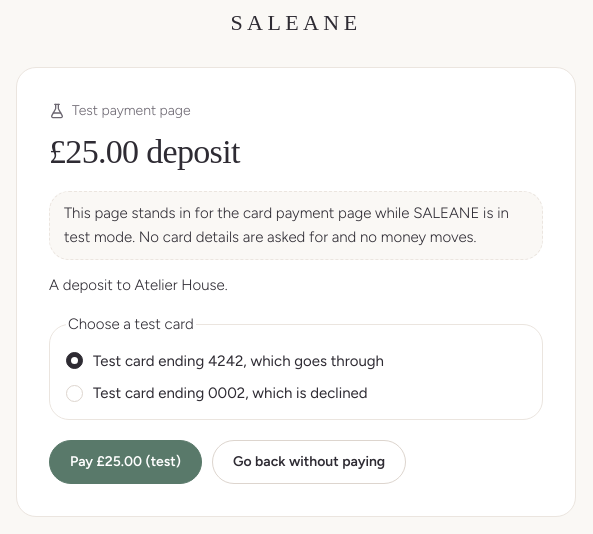
Test: a test deposit ends by saying plainly that no money was taken
This screenshot has width=593, height=534.
Click the button "Pay £25.00 (test)": (126, 462) top-left (49, 440), bottom-right (202, 484)
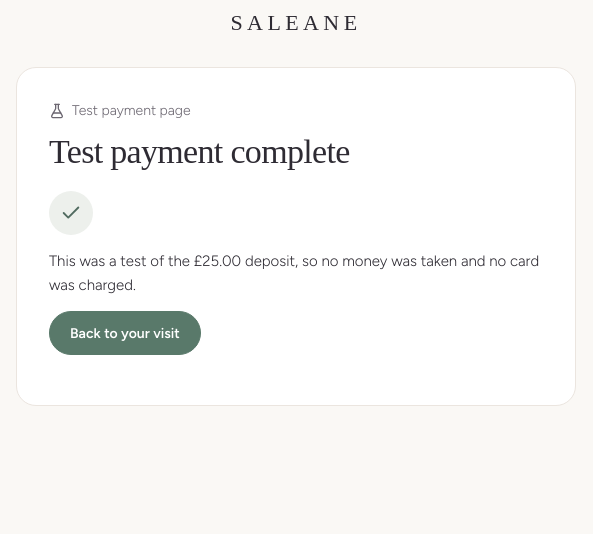
Check: the heading "Test payment complete" is shown, box top-left (49, 133), bottom-right (350, 170)
Check: the message shows "This was a test of the £25.00 deposit, so no money was taken and no card was charged.", box top-left (49, 252), bottom-right (539, 294)
